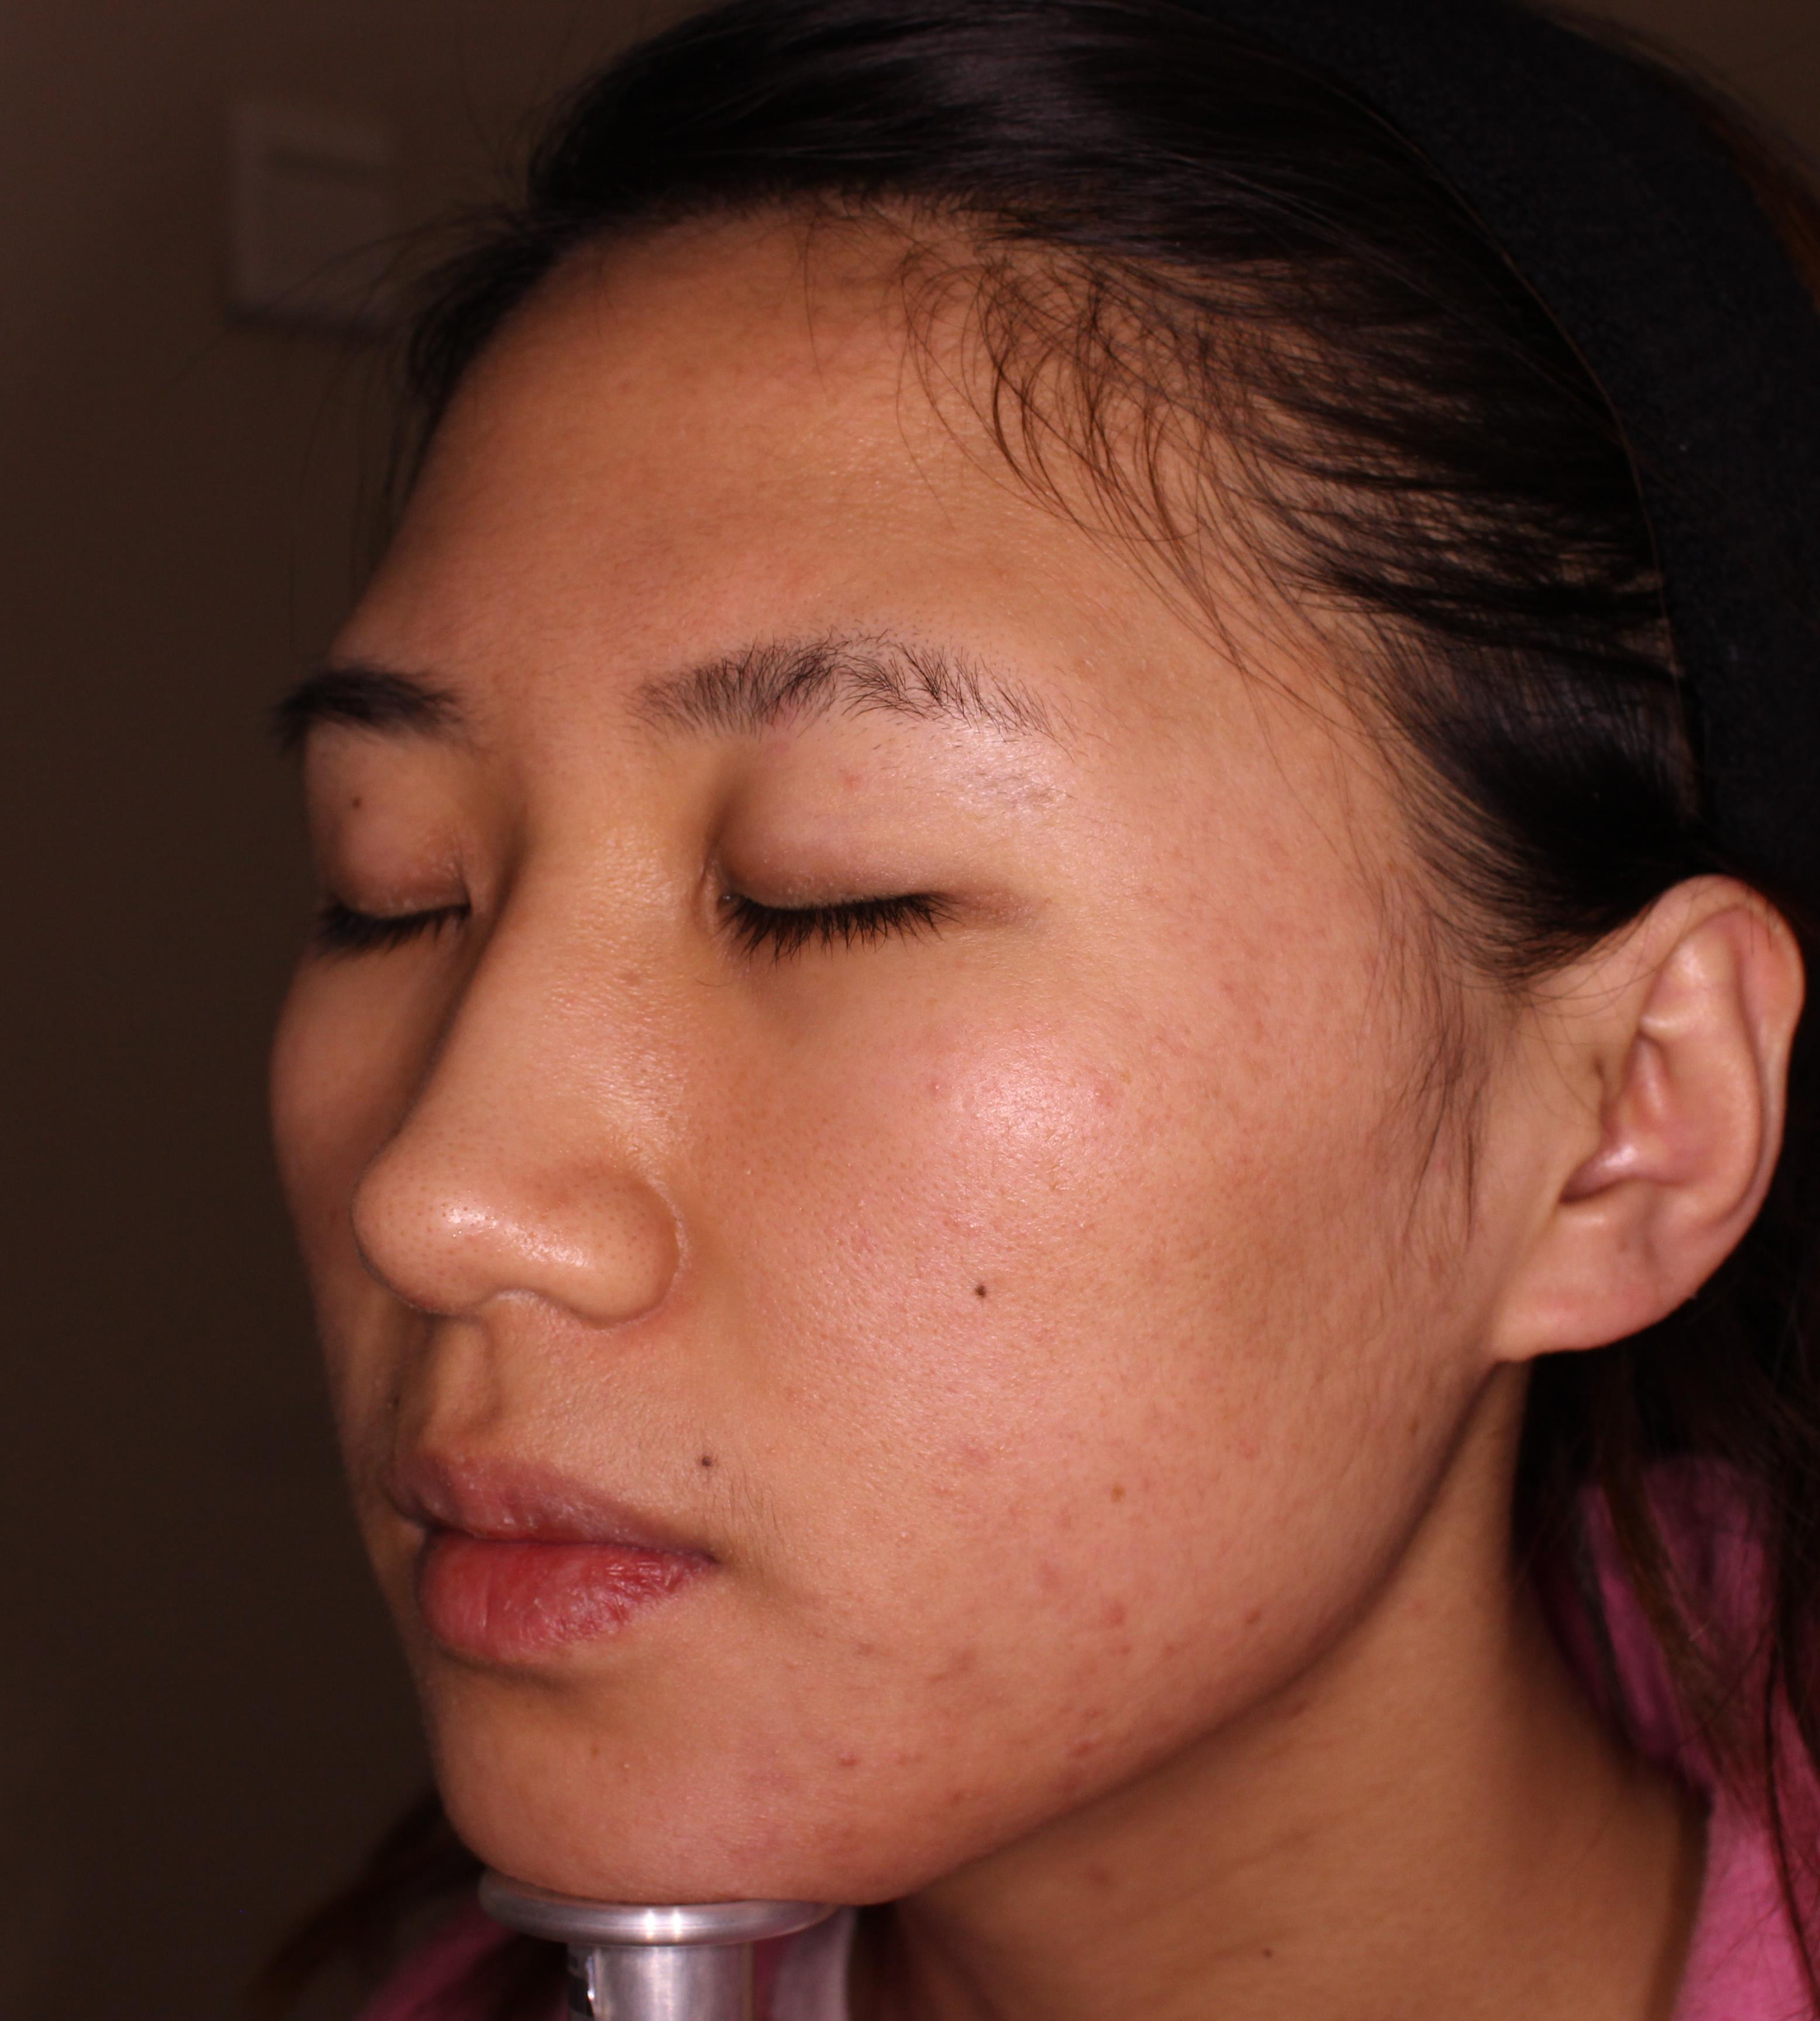fore: (803, 1786, 901, 1898), (1054, 1577, 1158, 1658), (906, 1626, 1005, 1687)
